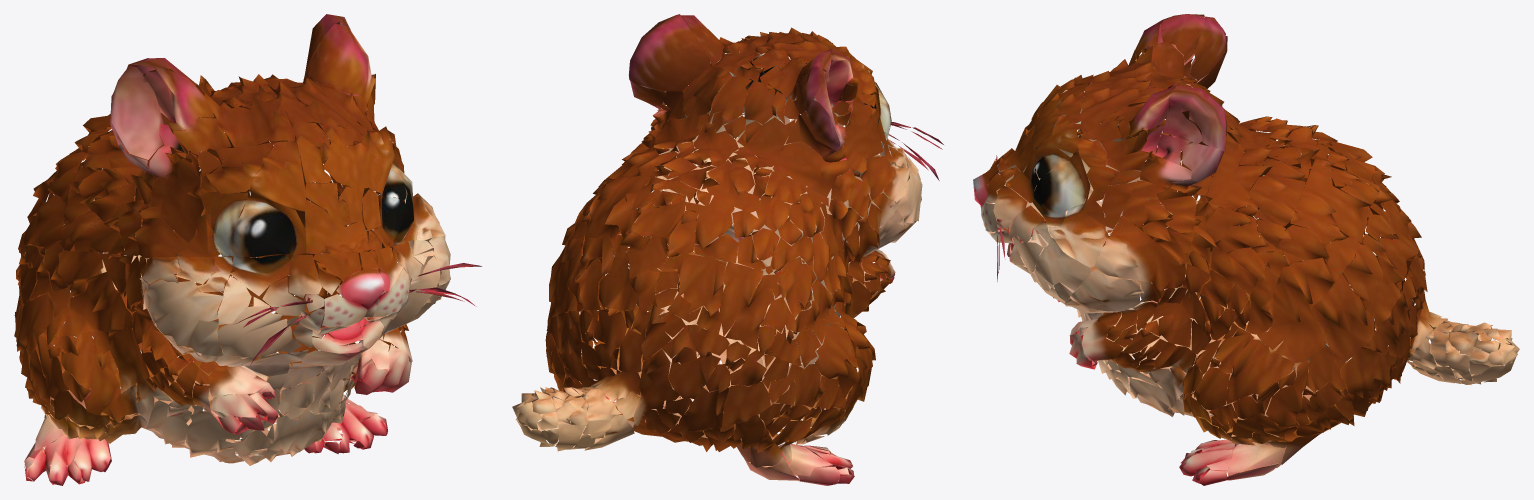
Rendered from hamster.glb.
3 views of the same model, side by side, from view 1: azimuth 30°, elevation 25°; view 2: azimuth 150°, elevation 25°; view 3: azimuth 270°, elevation 25° (orthographic). The views are drawn at different scales.
Visible parts, largest first — view 1: Mesh_0; view 2: Mesh_0; view 3: Mesh_0.
Boxes of the visible parts, x1,y1,x2,y2 form: Mesh_0: (14, 14, 481, 485); Mesh_0: (512, 14, 943, 485); Mesh_0: (973, 14, 1519, 485).
Bounding box in the file's own units: 1.21 × 1.45 × 1.9.
1 material, 1 textured.
